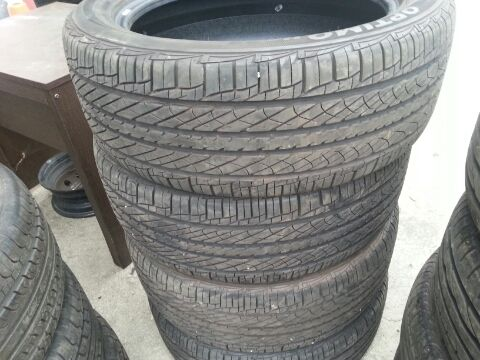middle_condition: (62, 36, 452, 187), (109, 176, 418, 272)
